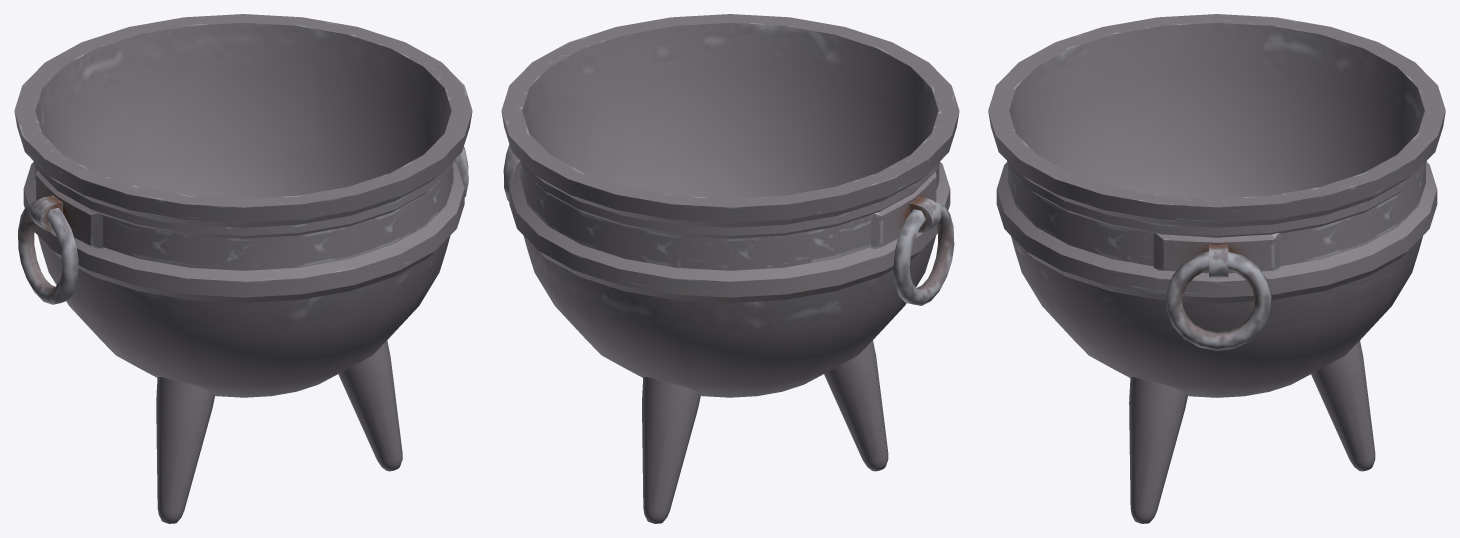
The model's file is cauldron-CbviUcy7.glb.
The picture shows the model from 3 angles, left to right: view 1: azimuth 30°, elevation 25°; view 2: azimuth 150°, elevation 25°; view 3: azimuth 270°, elevation 25°; orthographic projection.
Parts seen in each view (by area): view 1: Cauldron; view 2: Cauldron; view 3: Cauldron.
Boxes of the visible parts, box(x1,y1,x2,y2) form: Cauldron: box(14, 14, 472, 523); Cauldron: box(501, 14, 959, 523); Cauldron: box(988, 14, 1445, 523).
Bounding box in the file's own units: 1.78 × 1.47 × 1.7.
Materials: 1 (1 with a texture image).
